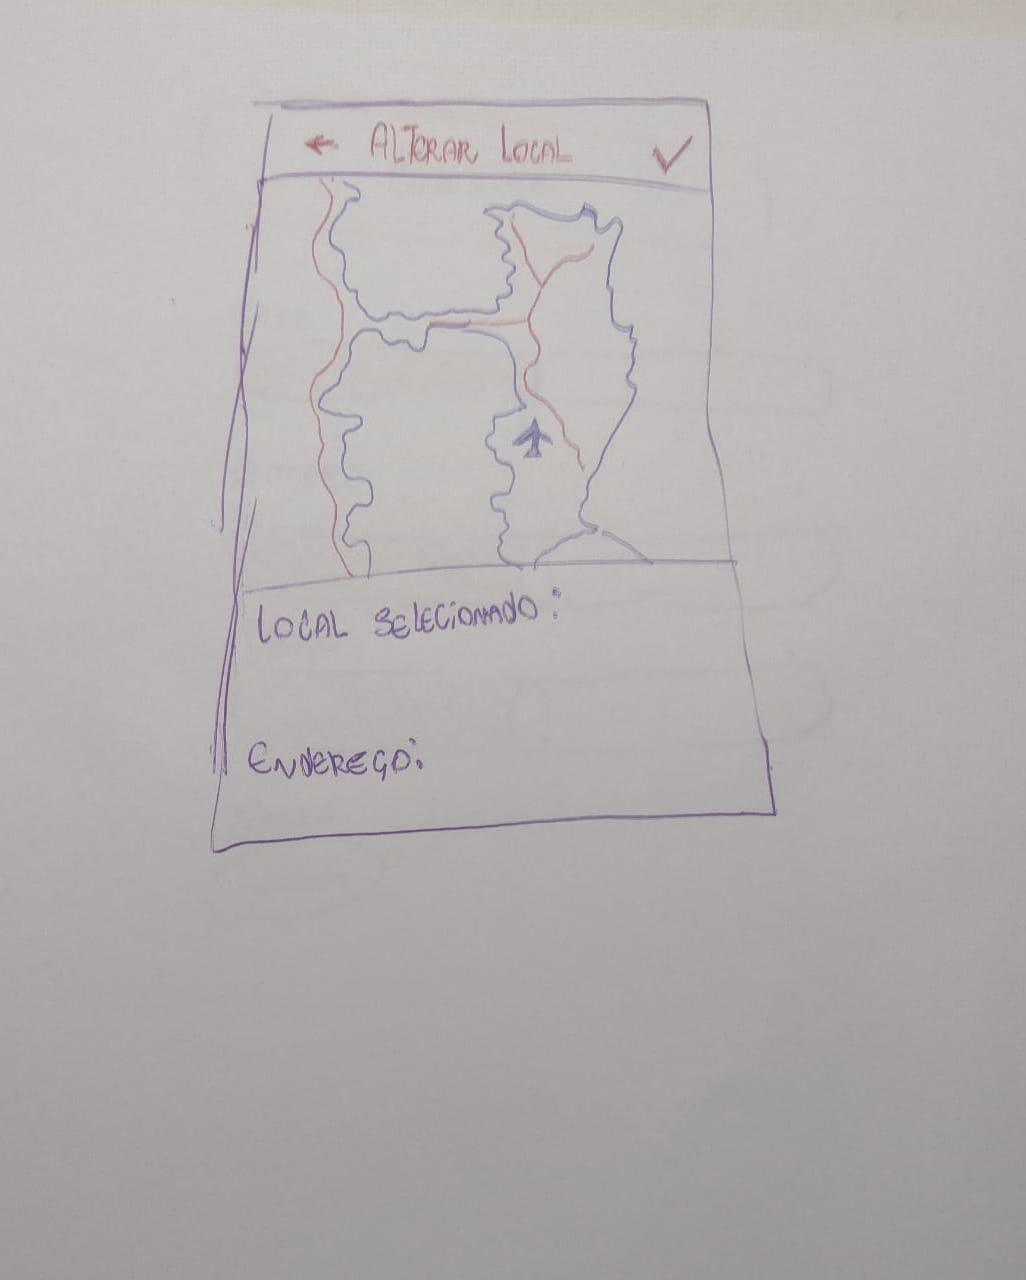Label: (259, 585, 563, 646), (369, 121, 574, 166), (246, 737, 425, 780), (650, 130, 696, 173), (299, 130, 342, 158)
Map: (231, 172, 728, 593)
Screen: (207, 98, 778, 855)
